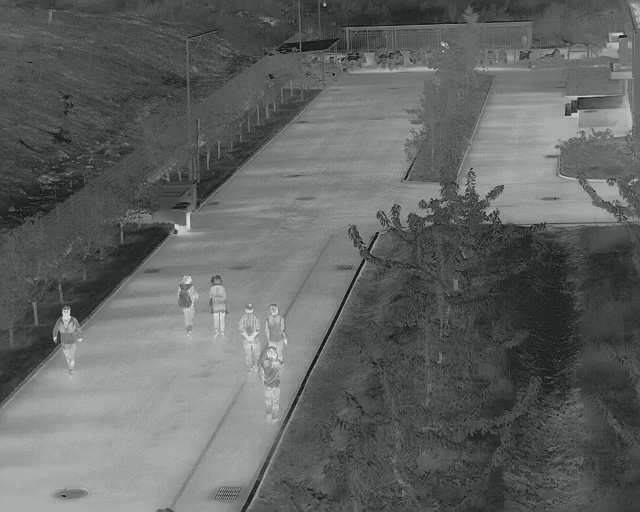person: (55, 305, 83, 377), (262, 345, 285, 423), (207, 271, 230, 341), (239, 301, 261, 371), (178, 273, 200, 337), (266, 302, 288, 347)
